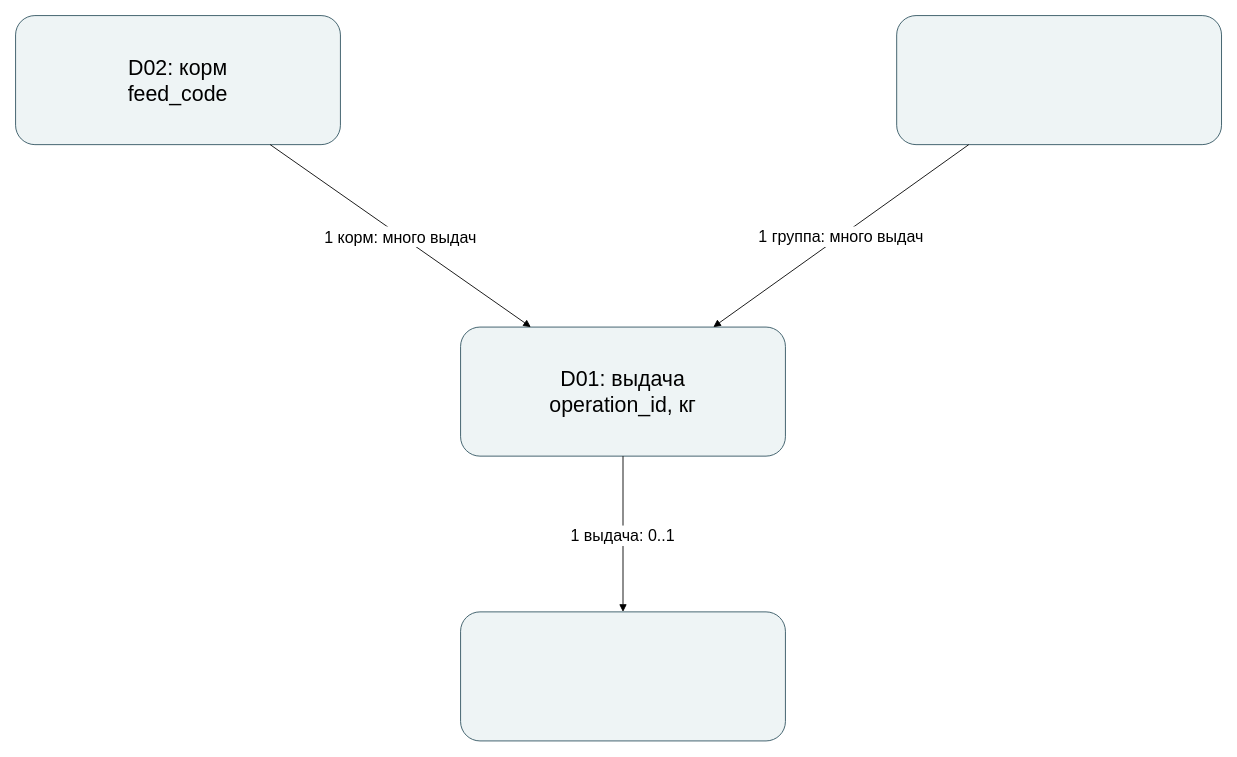
This 1237x757 diagram has some shape labels left out. The shapes that lost their labels are listed below. From the top down, each one's centre as x and y in pixels, then its label:
At pixel 1059 80: "D03: группа group_code".
At pixel 622 676: "D04: подтверждение OP и решение Р02".
